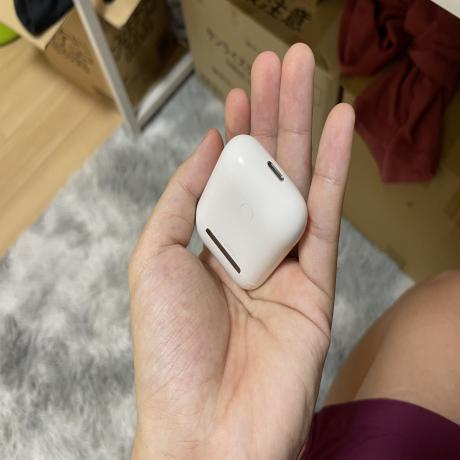airpod2: (188, 126, 309, 294)
